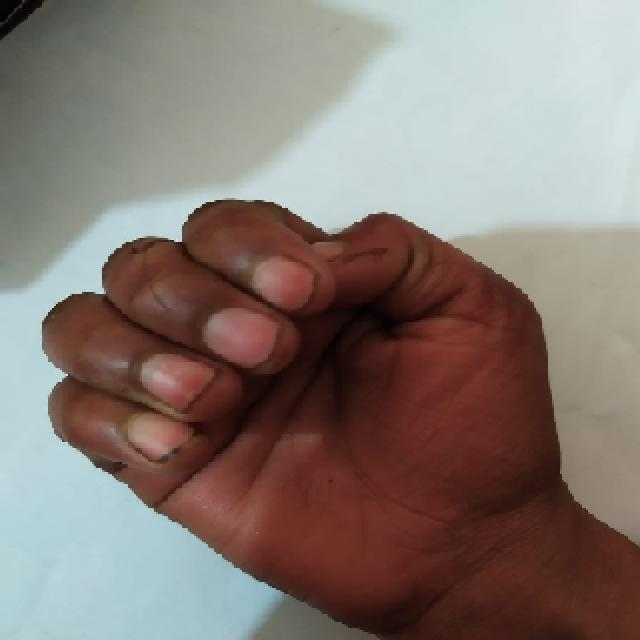Nail: (202, 308, 280, 369), (140, 354, 215, 409), (251, 256, 315, 311), (128, 412, 194, 461), (311, 241, 342, 260)
